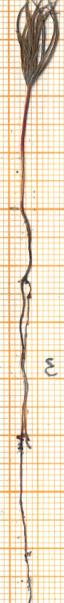flower: (0, 0, 64, 90)
root: (12, 212, 42, 603)
stem: (15, 90, 39, 212)
